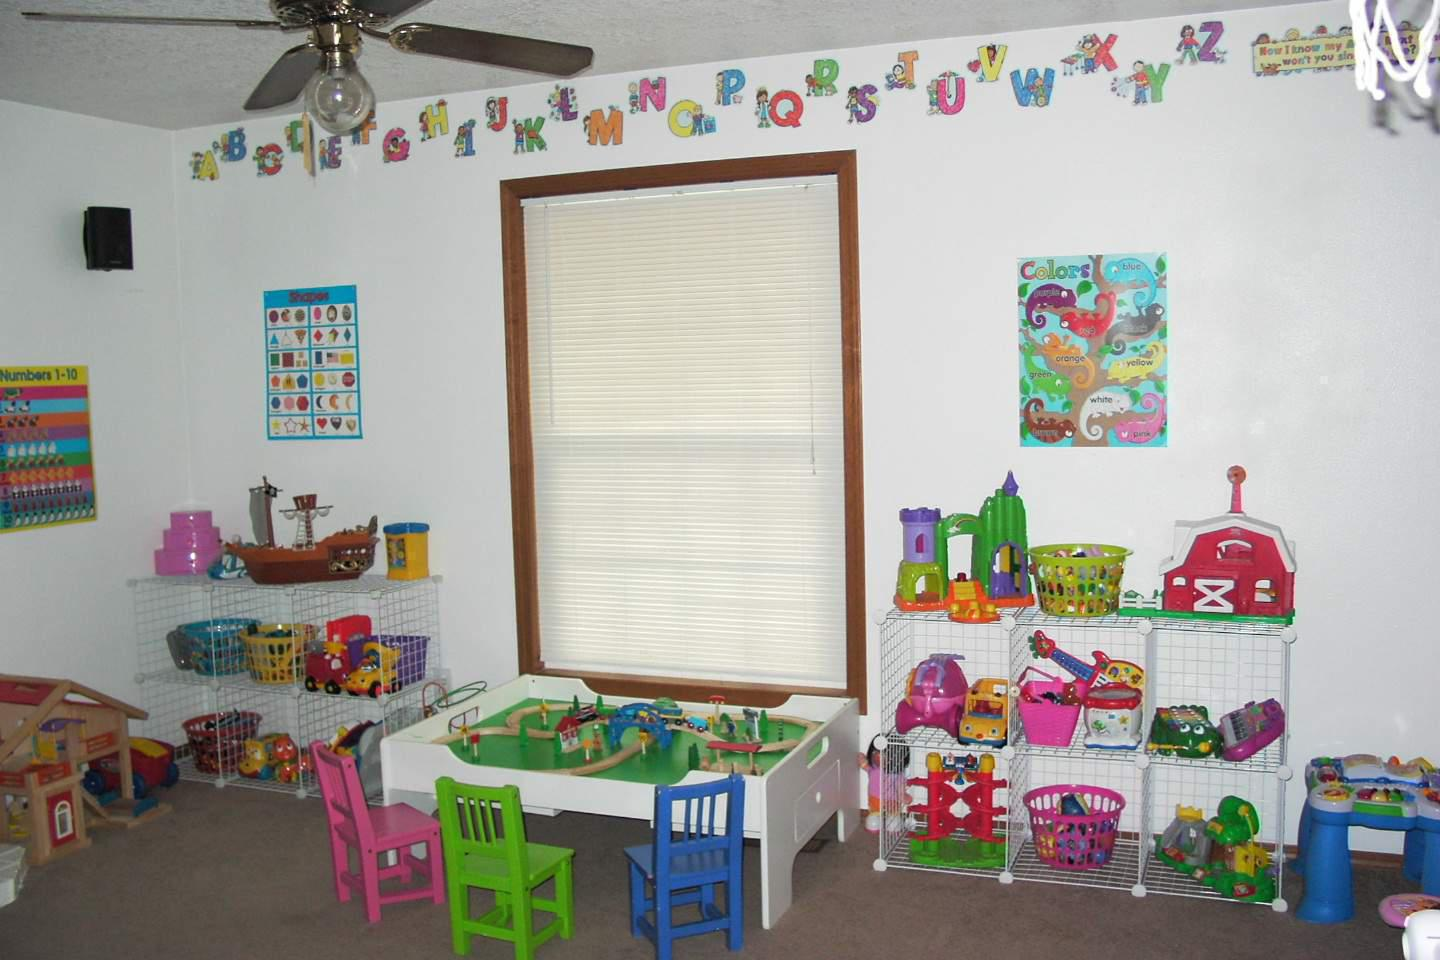Ventana: (502, 189, 855, 690)
